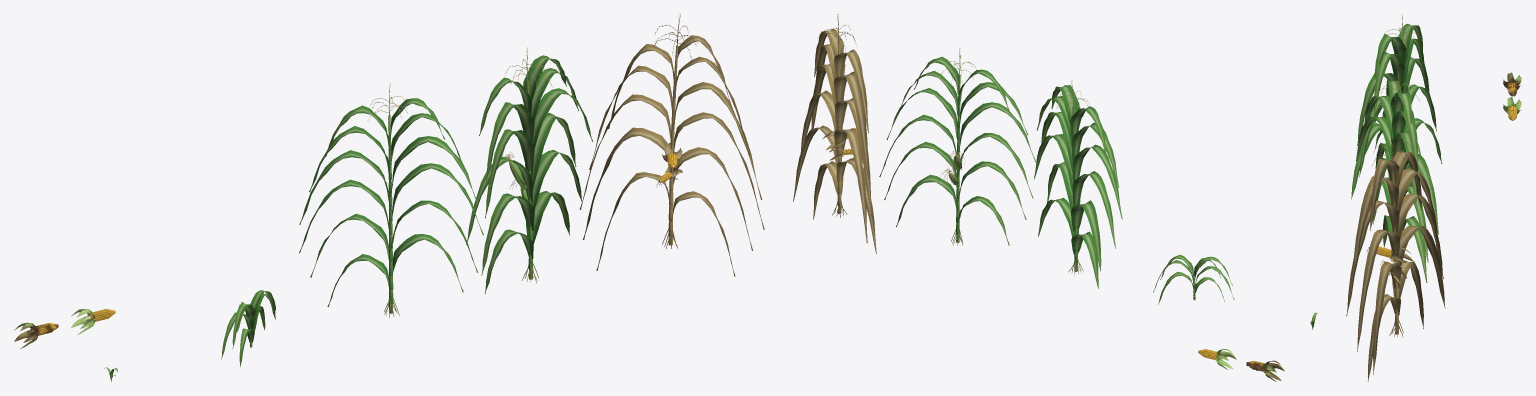
File: fieldworks_corn.glb
3 views of the same model, side by side, from view 1: azimuth 30°, elevation 25°; view 2: azimuth 150°, elevation 25°; view 3: azimuth 270°, elevation 25° (orthographic). The views are drawn at different scales.
Visible parts, largest first — view 1: corn_stage4_silking, corn_stage5_mature, corn_stage3_tasseling, corn_stage2_knee_high; view 2: corn_stage5_mature, corn_stage3_tasseling, corn_stage4_silking, corn_stage2_knee_high; view 3: corn_stage5_mature, corn_stage4_silking, corn_stage3_tasseling, corn_item_dirty, corn_item_washed.
Part boxes in pixels (left/top/right/bottom): corn_stage4_silking: left=466, top=47, right=592, bottom=293; corn_stage5_mature: left=579, top=14, right=764, bottom=276; corn_stage3_tasseling: left=299, top=83, right=483, bottom=317; corn_stage2_knee_high: left=221, top=290, right=276, bottom=366; corn_stage5_mature: left=793, top=14, right=876, bottom=253; corn_stage3_tasseling: left=1034, top=80, right=1122, bottom=288; corn_stage4_silking: left=879, top=48, right=1035, bottom=245; corn_stage2_knee_high: left=1153, top=254, right=1234, bottom=304; corn_stage5_mature: left=1346, top=132, right=1445, bottom=381; corn_stage4_silking: left=1356, top=69, right=1438, bottom=282; corn_stage3_tasseling: left=1351, top=14, right=1442, bottom=224; corn_item_dirty: left=1503, top=72, right=1521, bottom=96; corn_item_washed: left=1503, top=97, right=1521, bottom=120.
Size of the model in its own units: 5.79 by 2.21 by 1.52.
